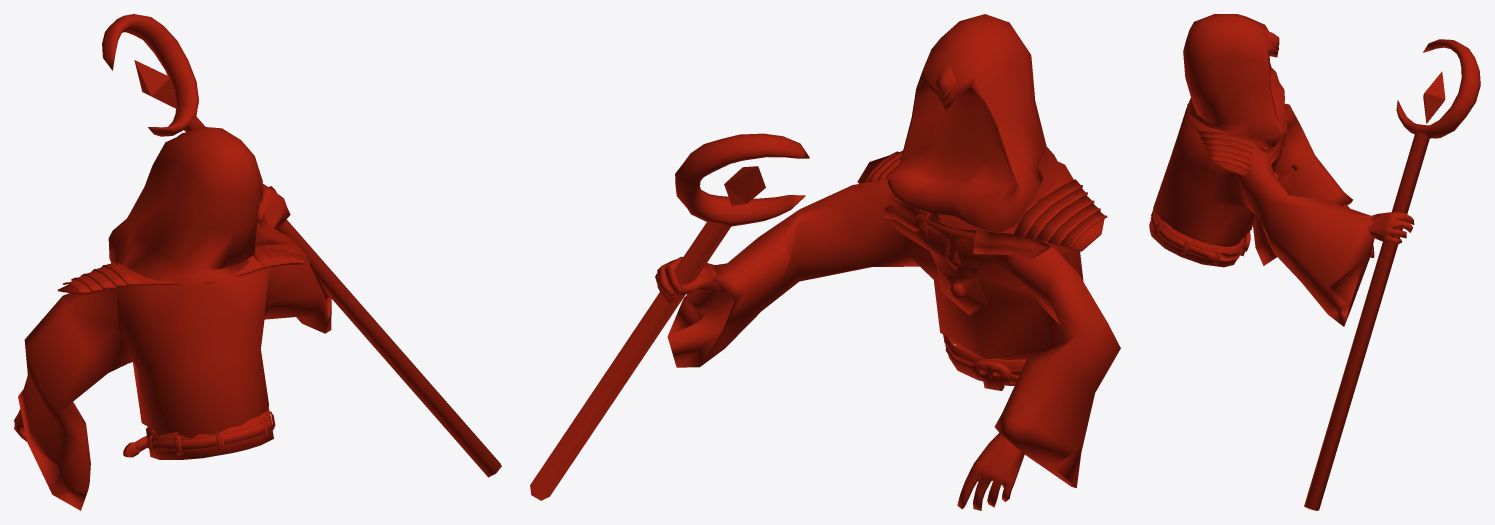
Rendered from top_000041.obj.
3 renders of one model, left to right at view 1: azimuth 30°, elevation 25°; view 2: azimuth 150°, elevation 25°; view 3: azimuth 270°, elevation 25°, orthographic. The views are drawn at different scales.
Visible parts, largest first — view 1: LowPoly_Warlock.000_Plane.005; view 2: LowPoly_Warlock.000_Plane.005; view 3: LowPoly_Warlock.000_Plane.005.
Boxes of the visible parts, x1,y1,x2,y2 form: LowPoly_Warlock.000_Plane.005: (14,14,501,510); LowPoly_Warlock.000_Plane.005: (530,14,1120,510); LowPoly_Warlock.000_Plane.005: (1149,14,1480,510).
Bounding box in the file's own units: 1.74 × 1.56 × 1.27.
